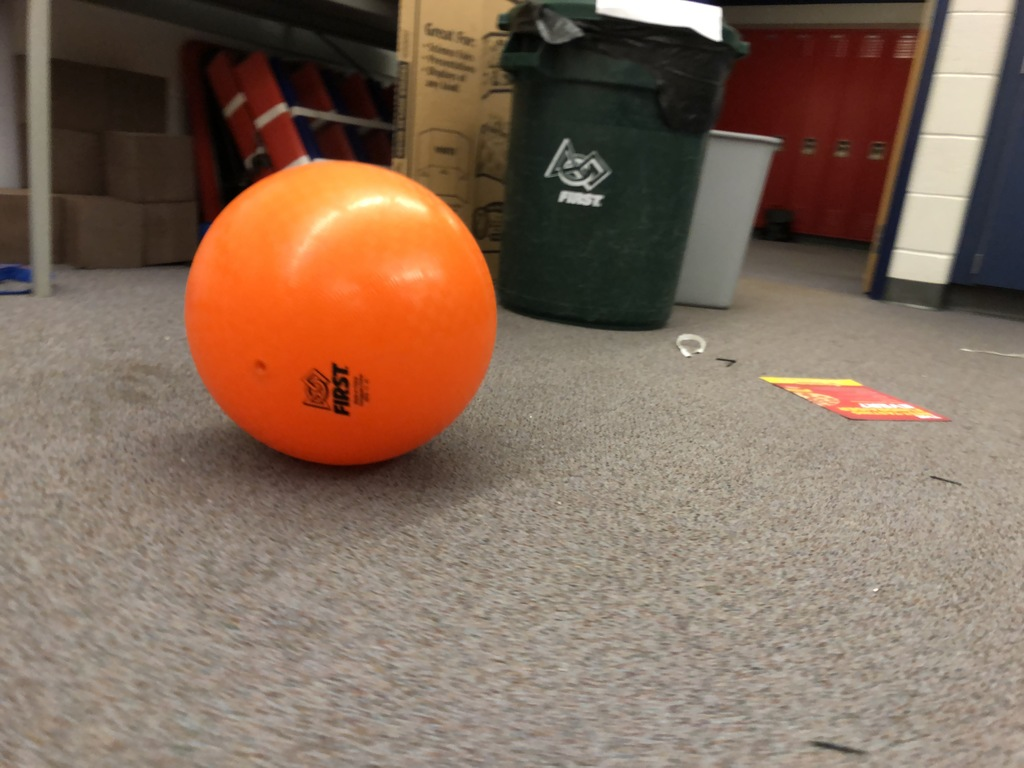cargo: (176, 144, 508, 475)
